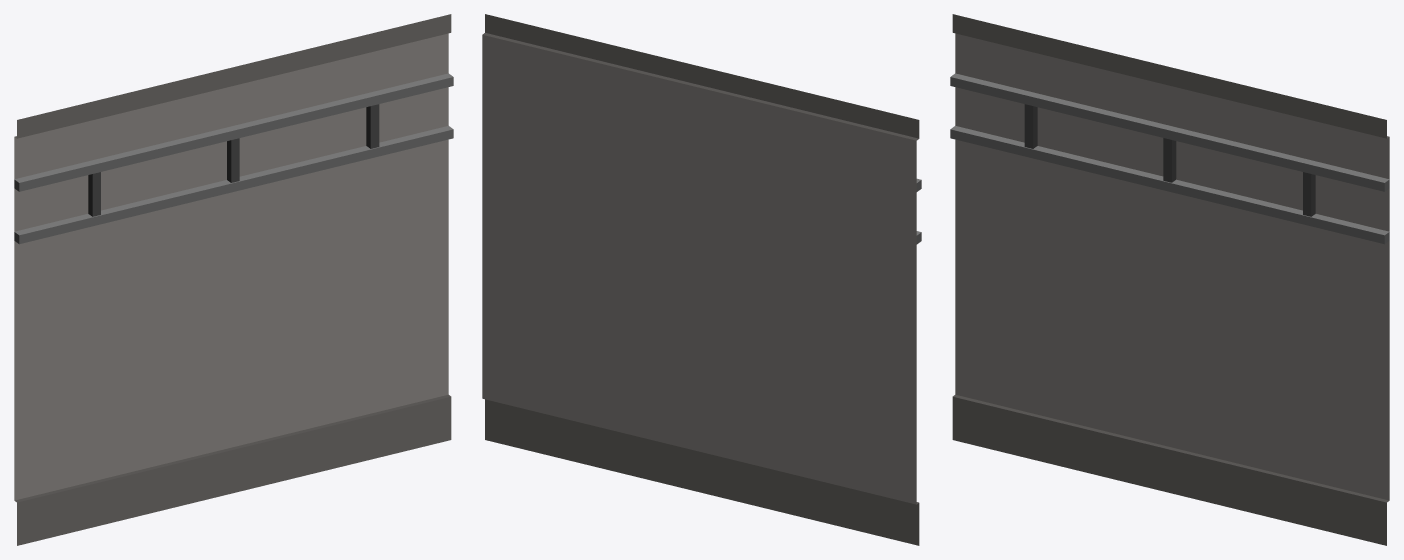
Rendered from AI_Env_Wall_Grey_Electronics_Straight.fbx.
3 renders of one model, left to right at view 1: azimuth 30°, elevation 25°; view 2: azimuth 150°, elevation 25°; view 3: azimuth 330°, elevation 25°, orthographic.
Visible parts, largest first — view 1: AI_Env_Wall_Grey_Electronics_Straight; view 2: AI_Env_Wall_Grey_Electronics_Straight; view 3: AI_Env_Wall_Grey_Electronics_Straight.
Boxes of the visible parts, bbox=[...] form: AI_Env_Wall_Grey_Electronics_Straight: bbox=[14, 14, 453, 545]; AI_Env_Wall_Grey_Electronics_Straight: bbox=[482, 14, 921, 545]; AI_Env_Wall_Grey_Electronics_Straight: bbox=[950, 14, 1389, 545].
Bounding box in the file's own units: 5 × 4.69 × 0.0984.
